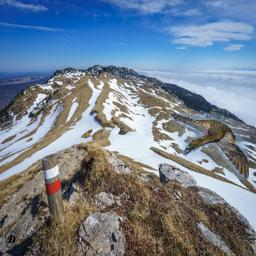Cuckoo: (171, 113, 250, 179)
